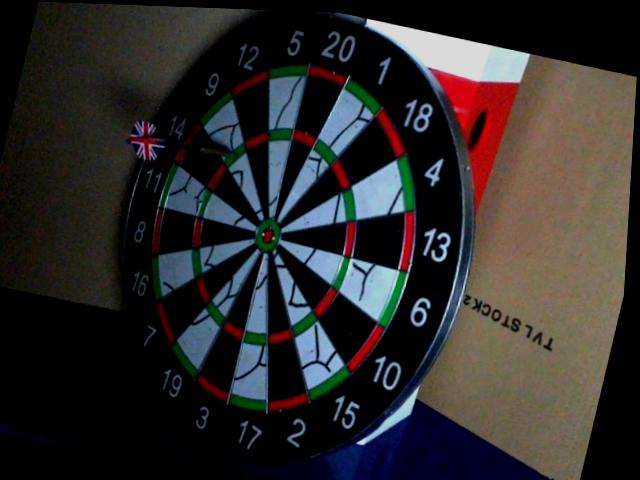triple_9: (222, 141, 247, 169)
